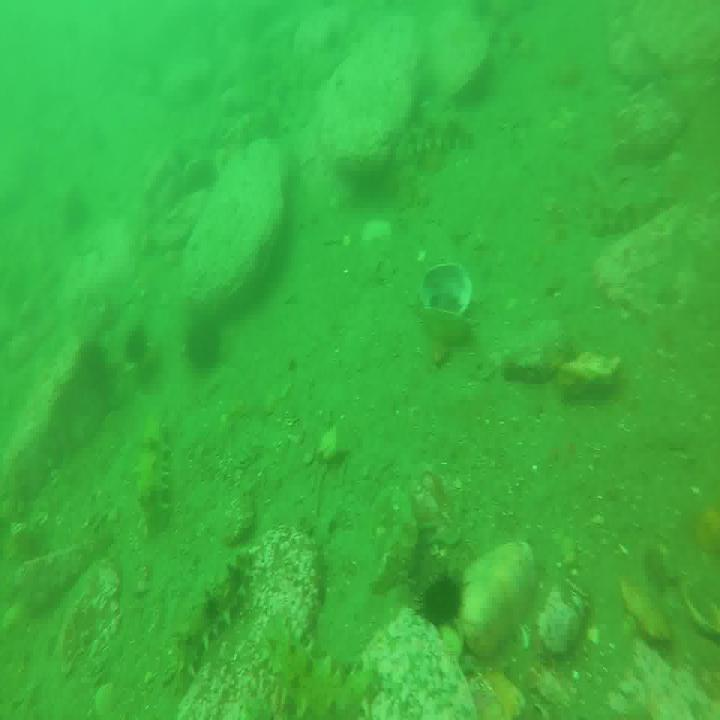echinus: (417, 567, 466, 628), (184, 321, 222, 374)
holothurian: (171, 549, 249, 698), (260, 623, 379, 720), (398, 110, 480, 155), (139, 420, 169, 530)
scallop: (421, 262, 476, 351)
